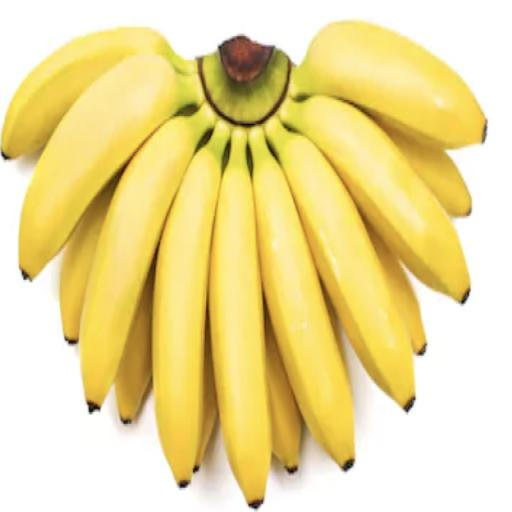banana: (266, 118, 415, 410), (80, 104, 215, 411), (19, 55, 203, 279), (279, 96, 470, 303), (250, 127, 355, 470), (153, 120, 230, 487), (2, 27, 194, 158), (290, 22, 487, 149), (209, 128, 271, 509), (60, 178, 118, 343), (378, 122, 471, 217), (366, 224, 426, 355), (115, 264, 155, 423), (265, 307, 301, 474), (194, 311, 217, 473), (321, 283, 346, 365)
